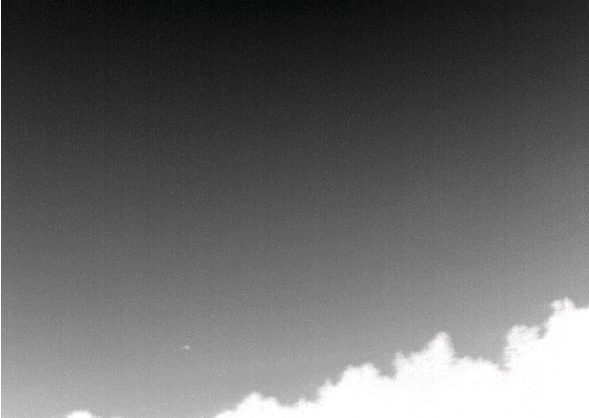dim target: (180, 343, 192, 352)
